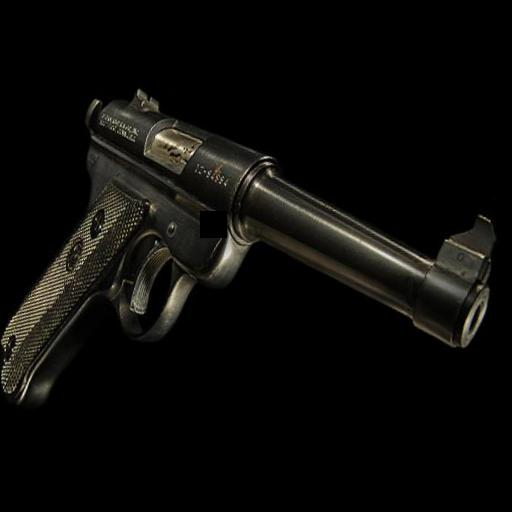Handgun: (0, 68, 512, 511)
